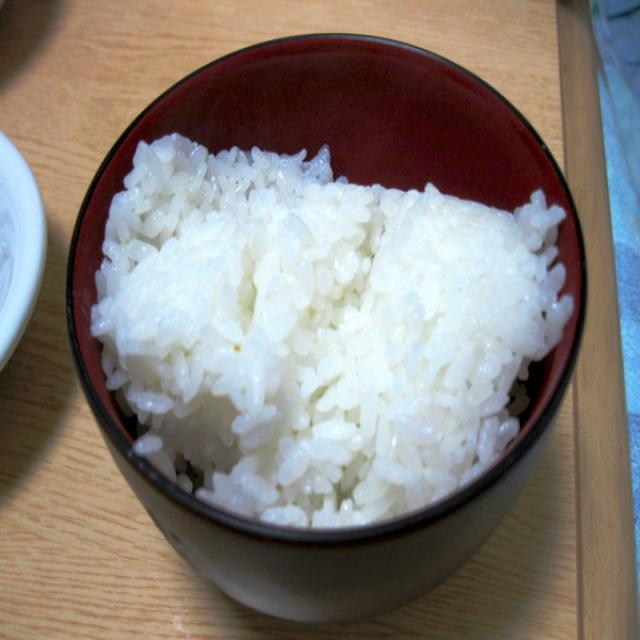rice: (88, 131, 574, 529)
